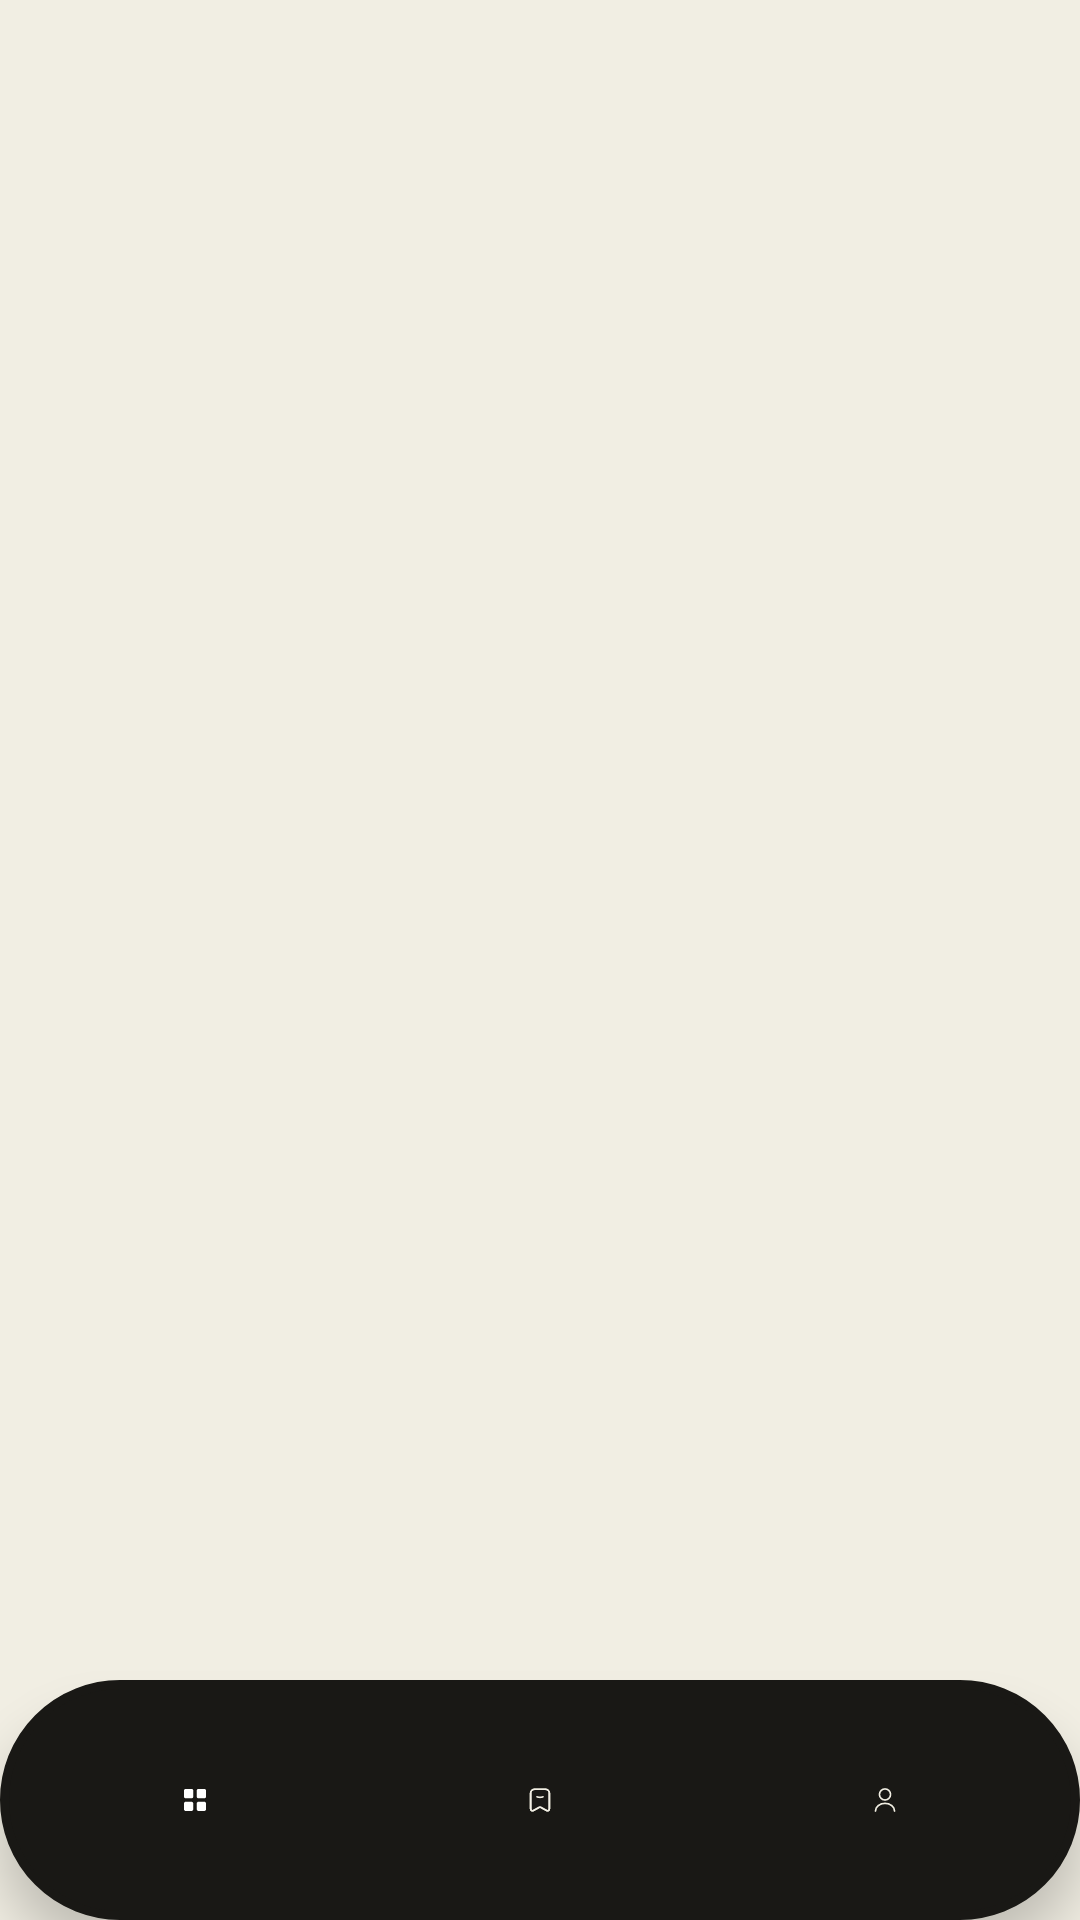

Point at icon controls on the screen. Image size 1080w x 1920h, points as (x=x, y=y).
about bt: (x=885, y=1800)
fav bt: (x=540, y=1800)
